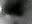person: (1, 5, 3, 16)
